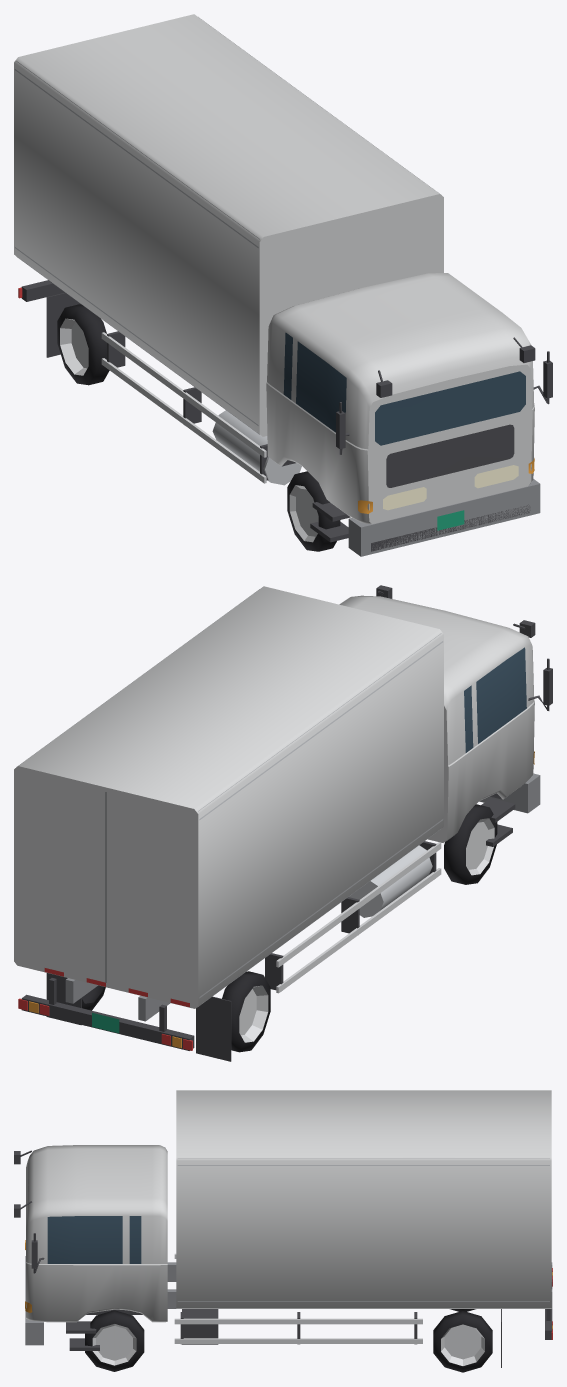
File: scatter1.fbx
3 renders of one model, top to bottom at view 1: azimuth 30°, elevation 25°; view 2: azimuth 150°, elevation 25°; view 3: azimuth 270°, elevation 25°, orthographic. The views are drawn at different scales.
Parts seen in each view (by area): view 1: a1041/0/scatter1; view 2: a1041/0/scatter1; view 3: a1041/0/scatter1.
Part boxes in pixels (x1=…): a1041/0/scatter1: x1=14, y1=14, x2=552, y2=556; a1041/0/scatter1: x1=14, y1=585, x2=552, y2=1061; a1041/0/scatter1: x1=14, y1=1090, x2=552, y2=1372.
Bounding box in the file's own units: 2.59 × 3.3 × 7.42.
